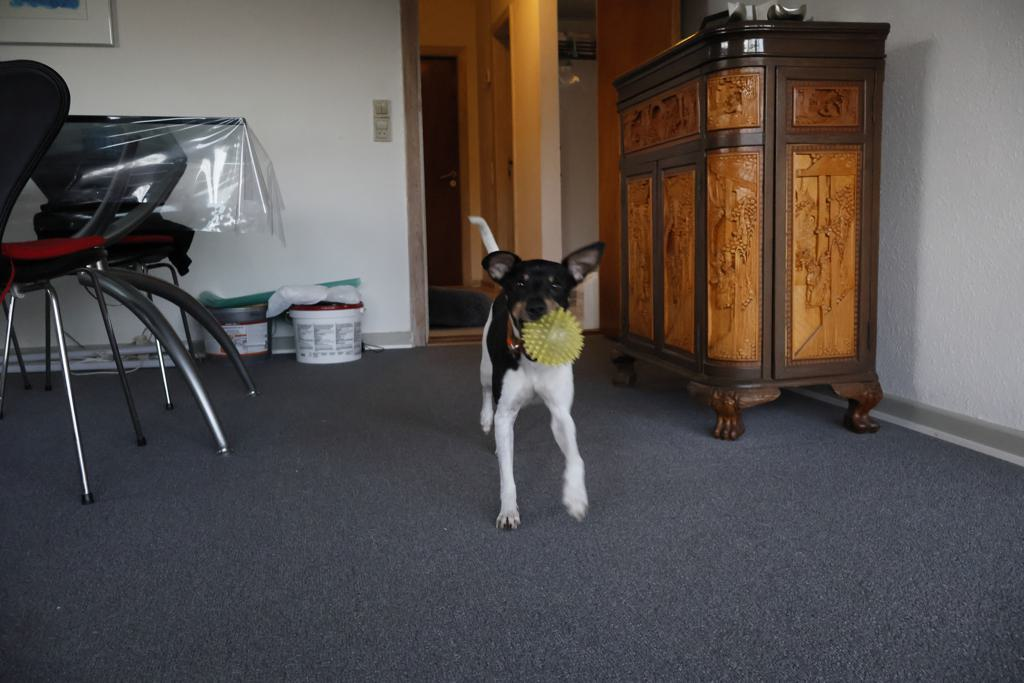Dog: (451, 205, 616, 543)
